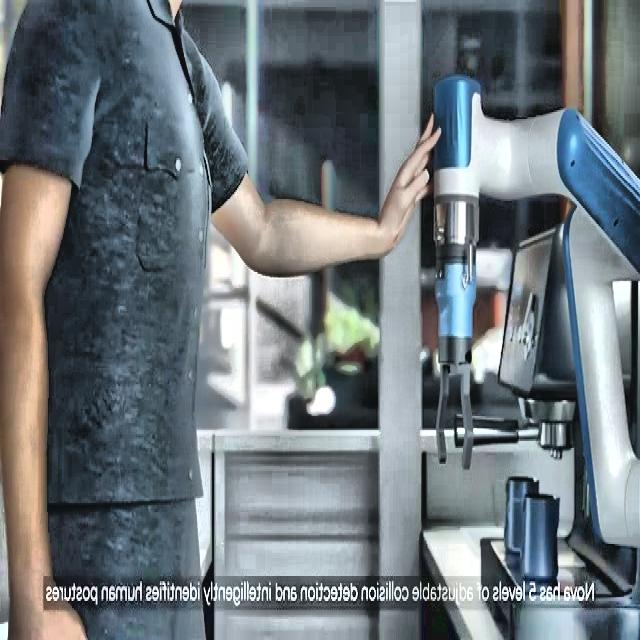robot: (431, 73, 640, 599)
